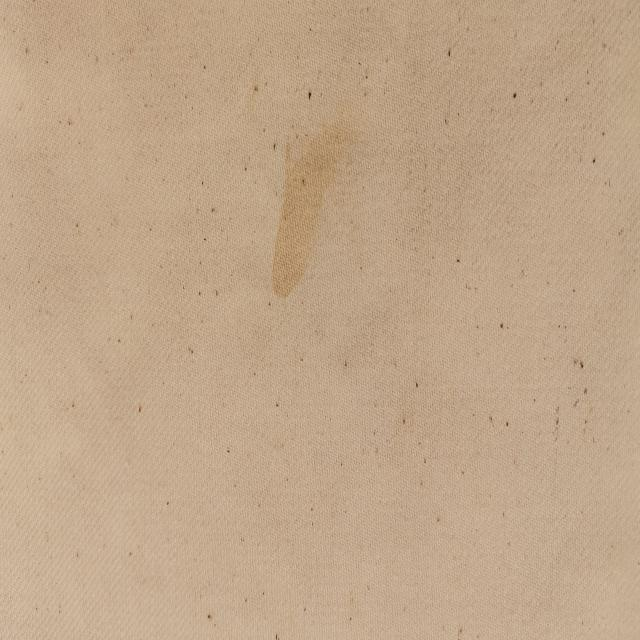taaaches: (265, 86, 360, 316)
